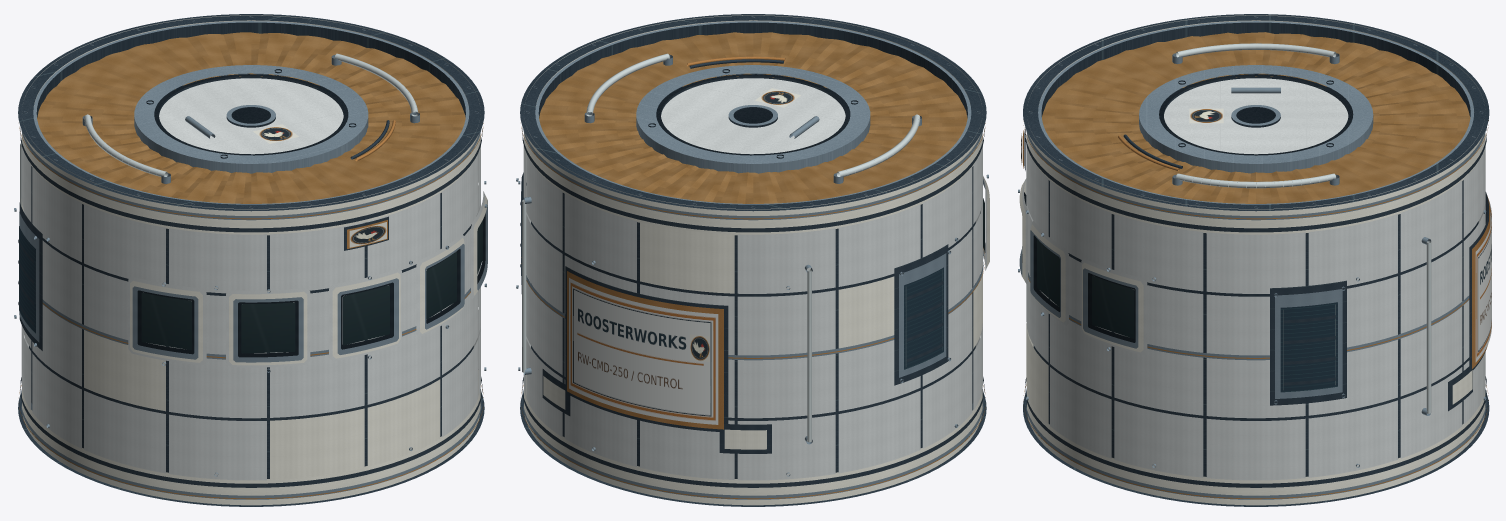
File: RW_CMD_250.obj
The picture shows the model from 3 angles, left to right: view 1: azimuth 30°, elevation 25°; view 2: azimuth 150°, elevation 25°; view 3: azimuth 270°, elevation 25°; orthographic projection.
Visible parts, largest first — view 1: ceramic, white, hubblanket, graphite, steel, glass, black, bronze, rail, display, crest; view 2: ceramic, hubblanket, graphite, white, steel, cmdlabel, bronze, rail, display, black, crest; view 3: ceramic, hubblanket, graphite, steel, white, display, glass, rail, bronze, black, cmdlabel, crest.
Part boxes in pixels (x1,y1,x2,y2): ceramic: (21, 78, 485, 480); white: (21, 15, 487, 505); hubblanket: (37, 32, 465, 203); graphite: (18, 14, 484, 506); steel: (14, 16, 487, 499); glass: (141, 220, 482, 353); black: (137, 74, 485, 357); bronze: (19, 120, 483, 499); rail: (20, 53, 418, 211); display: (19, 226, 35, 333); crest: (253, 124, 386, 247); ceramic: (523, 78, 987, 480); hubblanket: (539, 32, 967, 203); graphite: (520, 14, 986, 506); white: (524, 15, 989, 505); steel: (516, 16, 988, 499); cmdlabel: (569, 278, 718, 424); bronze: (521, 56, 985, 499); rail: (522, 53, 920, 442); display: (521, 191, 943, 369); black: (656, 74, 985, 252); crest: (755, 88, 800, 107); ceramic: (1022, 78, 1485, 480); hubblanket: (1042, 32, 1470, 203); graphite: (1023, 14, 1489, 506); steel: (1018, 16, 1486, 499); white: (1019, 15, 1485, 505); display: (1280, 302, 1337, 392); glass: (1025, 196, 1134, 338); rail: (1176, 43, 1431, 413); bronze: (1022, 120, 1490, 499); black: (1022, 74, 1353, 342); cmdlabel: (1475, 201, 1491, 362); crest: (1021, 108, 1223, 164).
Bounding box in the file's own units: 2.51 × 1.72 × 2.49.
12 materials, 12 textured.
